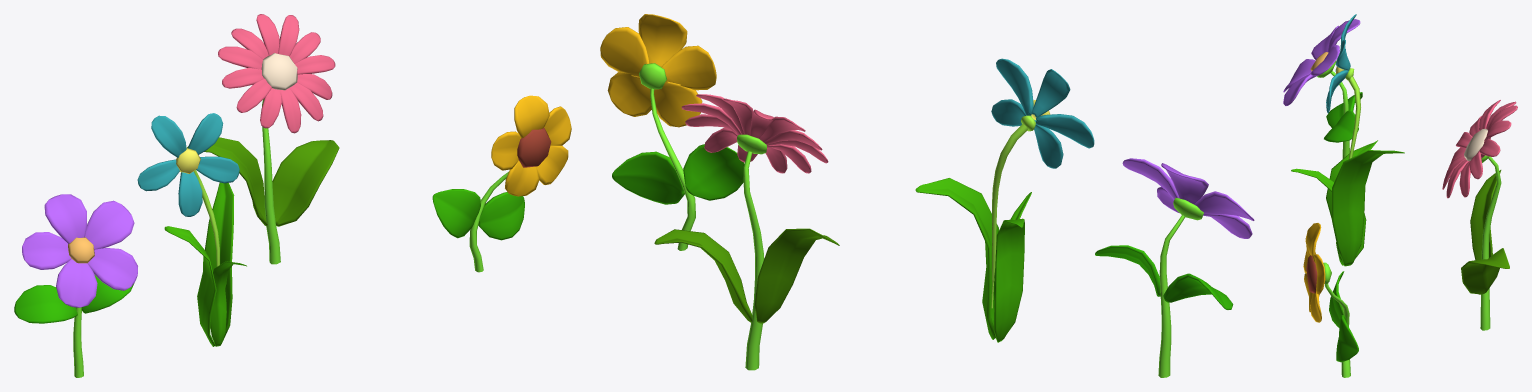
The model's file is Habitat.gltf.
3 renders of one model, left to right at view 1: azimuth 30°, elevation 25°; view 2: azimuth 150°, elevation 25°; view 3: azimuth 270°, elevation 25°, orthographic. The views are drawn at different scales.
Parts seen in each view (by area): view 1: Flower1.001, Flower3.001, Flower2.001, Flower4.001; view 2: Flower4.001, Flower1.001, Flower2.001, Flower3.001; view 3: Flower1.001, Flower2.001, Flower3.001, Flower4.001.
Part boxes in pixels (x1,y1,x2,y2): Flower1.001: (187,14,339,264); Flower3.001: (14,194,137,377); Flower2.001: (137,113,246,346); Flower4.001: (432,95,571,272); Flower4.001: (600,14,744,250); Flower1.001: (654,94,839,370); Flower2.001: (915,58,1094,342); Flower3.001: (1095,158,1254,377); Flower1.001: (1442,100,1517,330); Flower2.001: (1291,14,1404,266); Flower3.001: (1283,19,1362,158); Flower4.001: (1303,223,1358,377).
Size of the model in its own units: 3.65 by 1.54 by 1.44.
